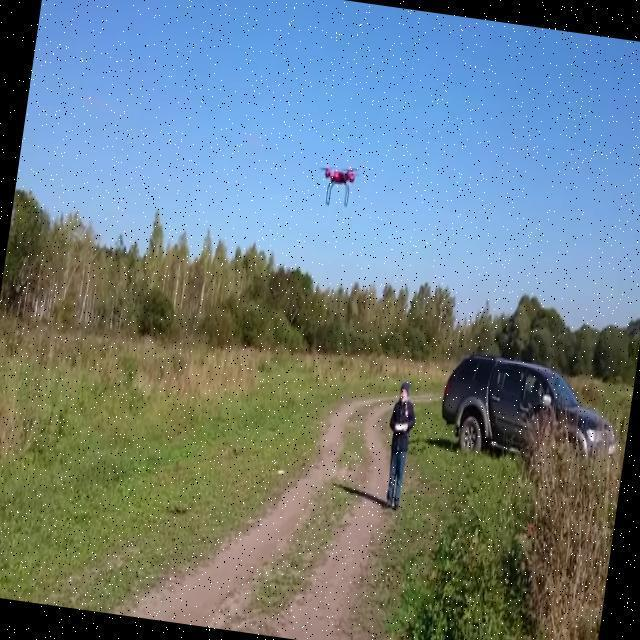Drons: (310, 160, 362, 212)
